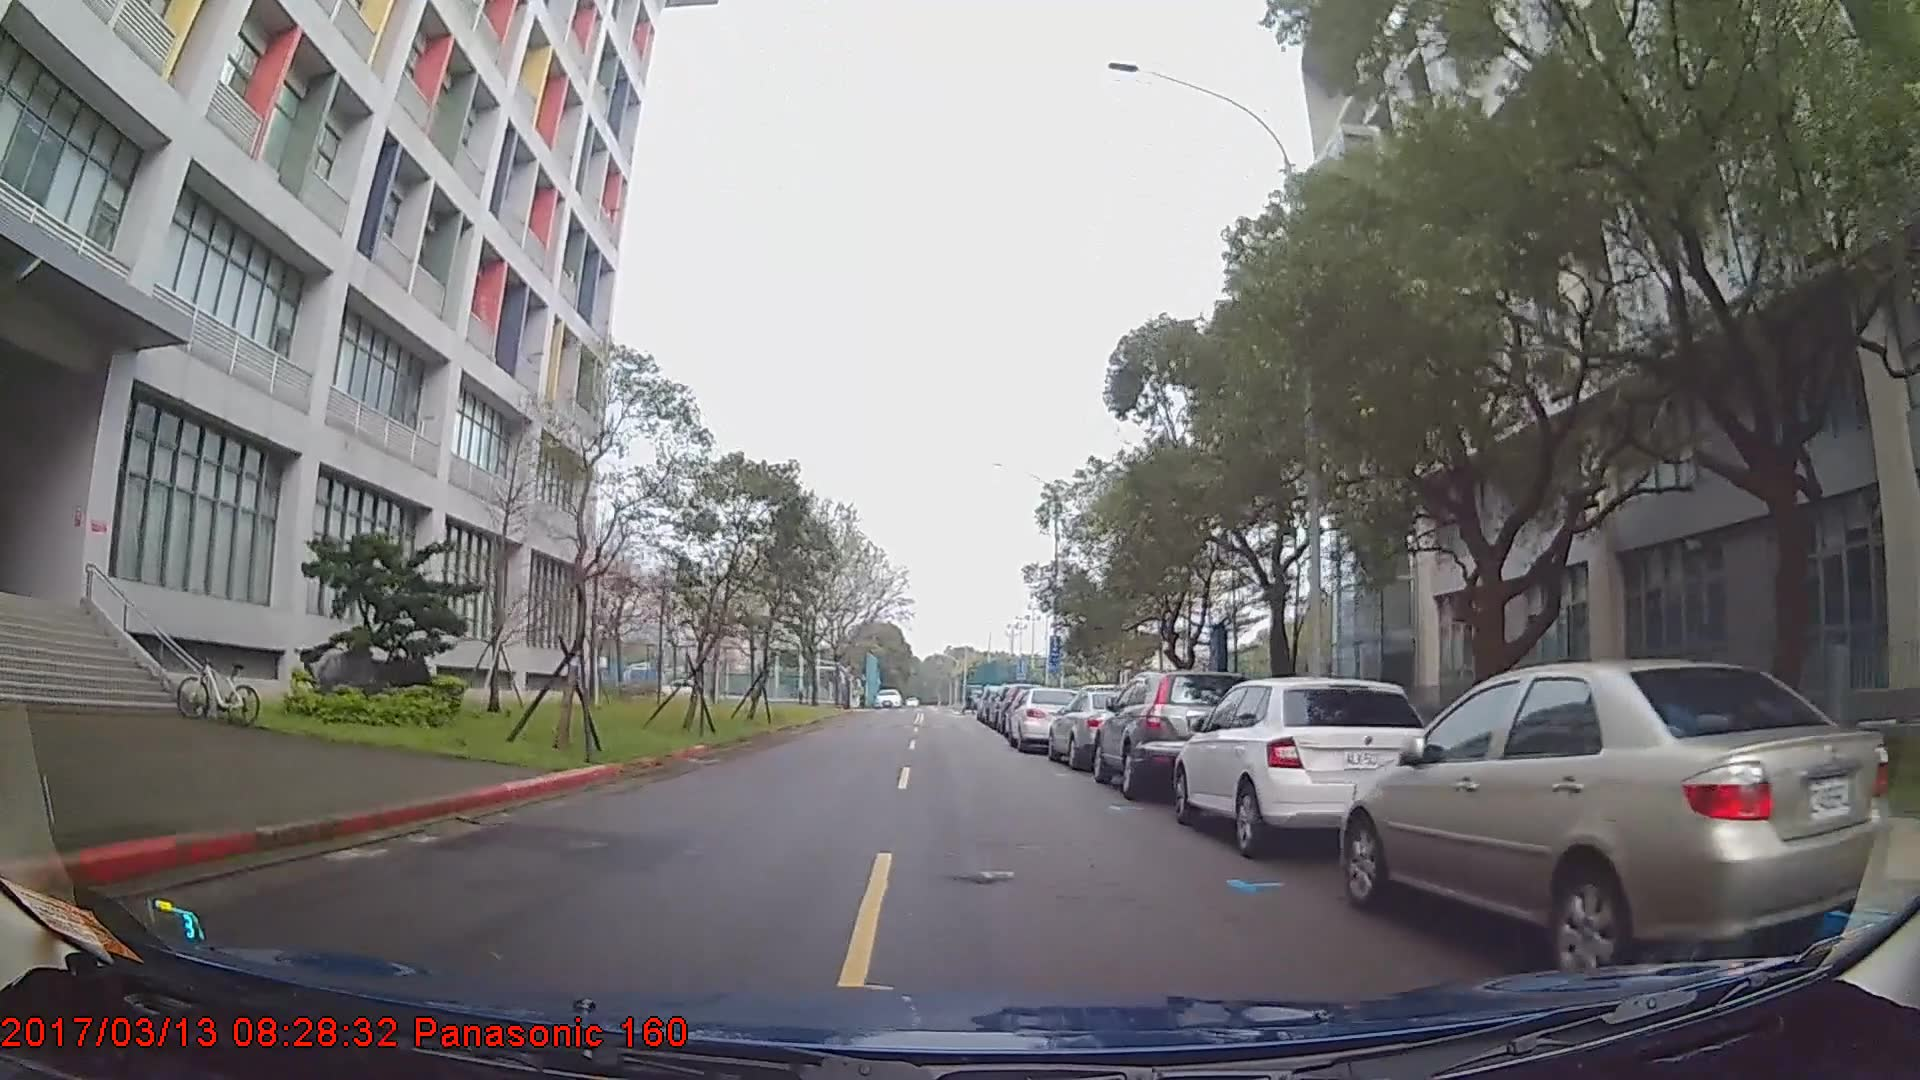vehicle: (1341, 658, 1896, 984), (1171, 676, 1432, 855), (1091, 669, 1259, 799), (1044, 686, 1146, 767), (1007, 684, 1084, 752)
